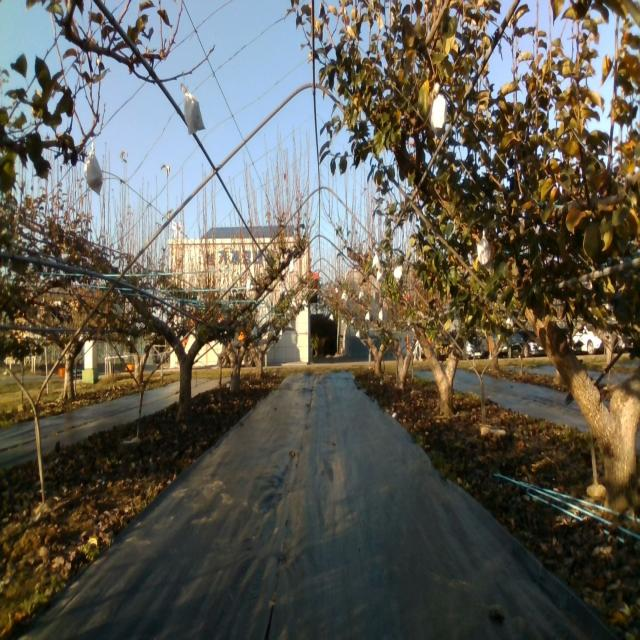pearbags: (180, 82, 205, 136), (85, 144, 105, 193), (428, 94, 448, 134), (477, 236, 491, 268)
